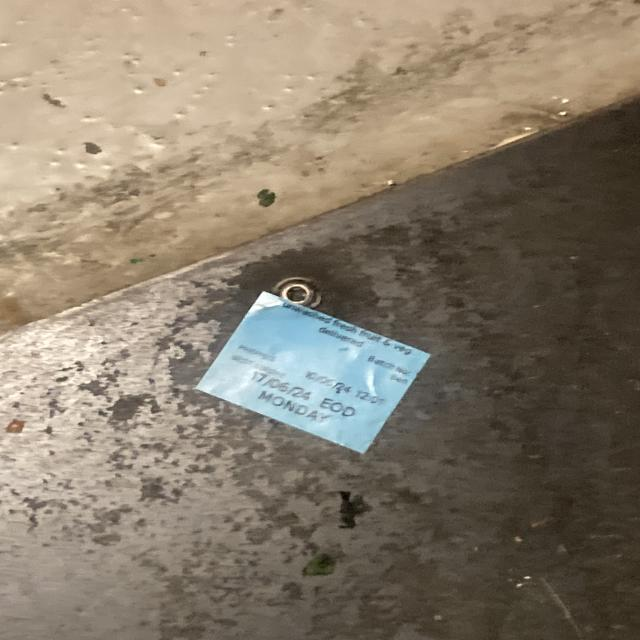product-labels: (196, 282, 432, 463)
